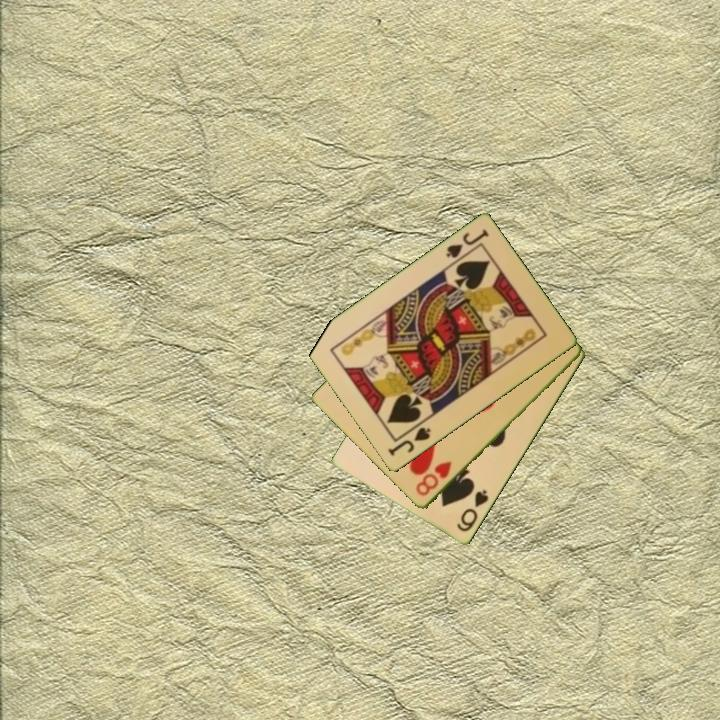6s: (453, 486, 492, 535)
8h: (412, 458, 454, 499)
Js: (384, 424, 434, 459), (442, 226, 492, 261)
